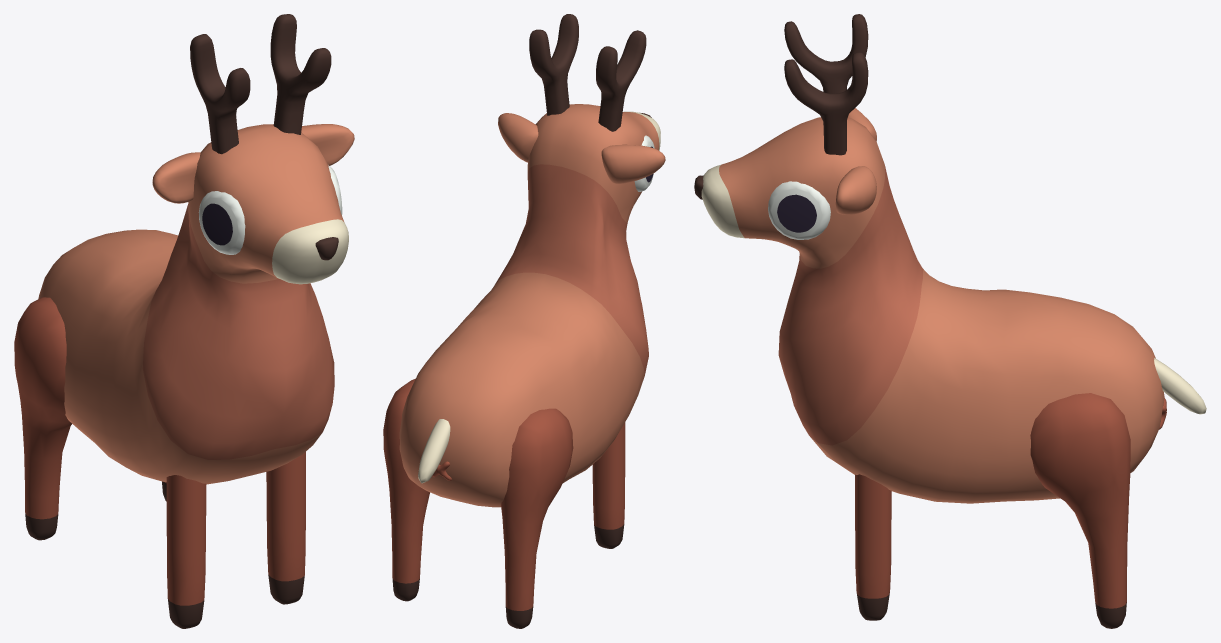
File: reindeer.glb
3 renders of one model, left to right at view 1: azimuth 30°, elevation 25°; view 2: azimuth 150°, elevation 25°; view 3: azimuth 270°, elevation 25°, orthographic. The views are drawn at different scales.
Parts seen in each view (by area): view 1: Reindeer_LOD0; view 2: Reindeer_LOD0; view 3: Reindeer_LOD0.
Boxes of the visible parts, x1=… form: Reindeer_LOD0: x1=14, y1=14, x2=354, y2=628; Reindeer_LOD0: x1=383, y1=14, x2=665, y2=628; Reindeer_LOD0: x1=694, y1=14, x2=1206, y2=628.
Size of the model in its own units: 113 by 315 by 261.
1 material, 1 textured.
